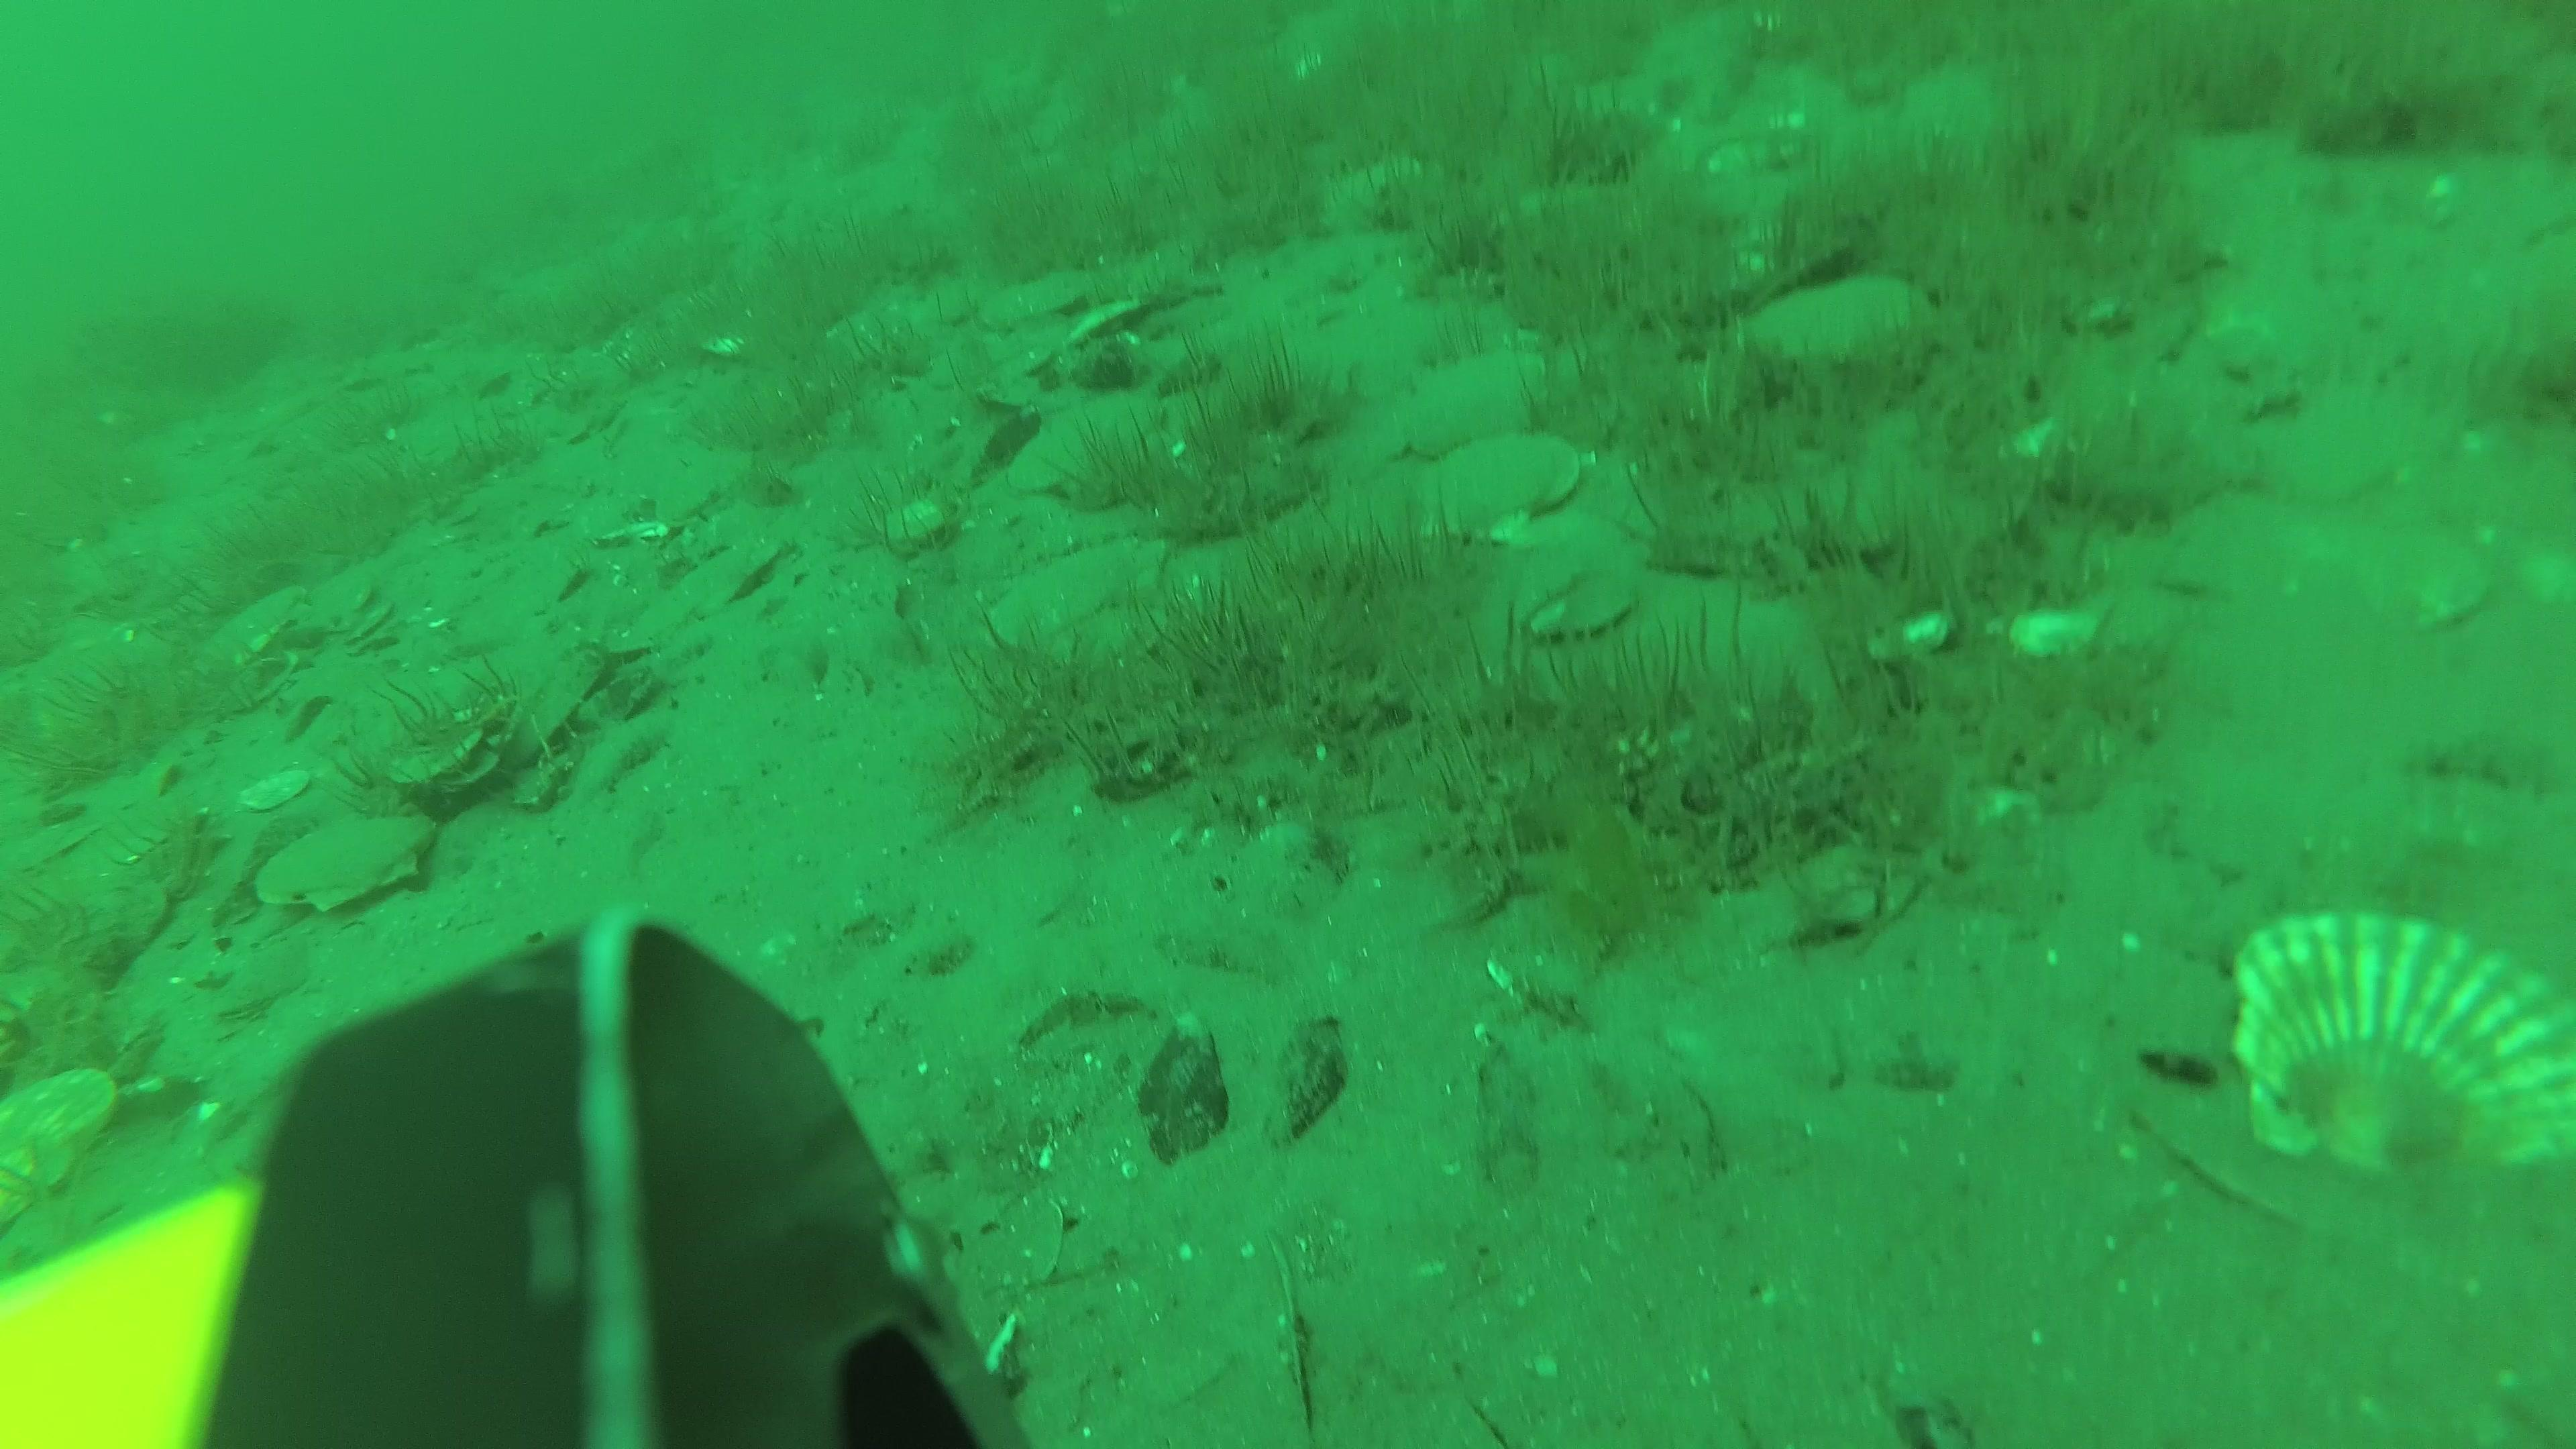scallop: (2235, 895, 2576, 1210), (1729, 258, 1936, 379), (980, 534, 1184, 653), (2, 1065, 122, 1244), (255, 805, 448, 916), (1005, 393, 1175, 518), (1419, 426, 1591, 548), (1396, 345, 1559, 456), (2364, 529, 2498, 633), (1523, 593, 1652, 653), (977, 280, 1093, 336), (2006, 602, 2112, 658), (1865, 605, 1960, 660), (980, 347, 1053, 407)
